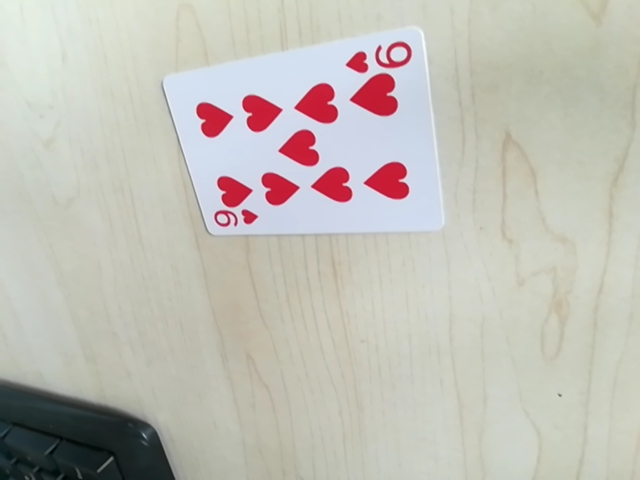hx 9: (345, 37, 415, 76), (207, 207, 260, 233)
